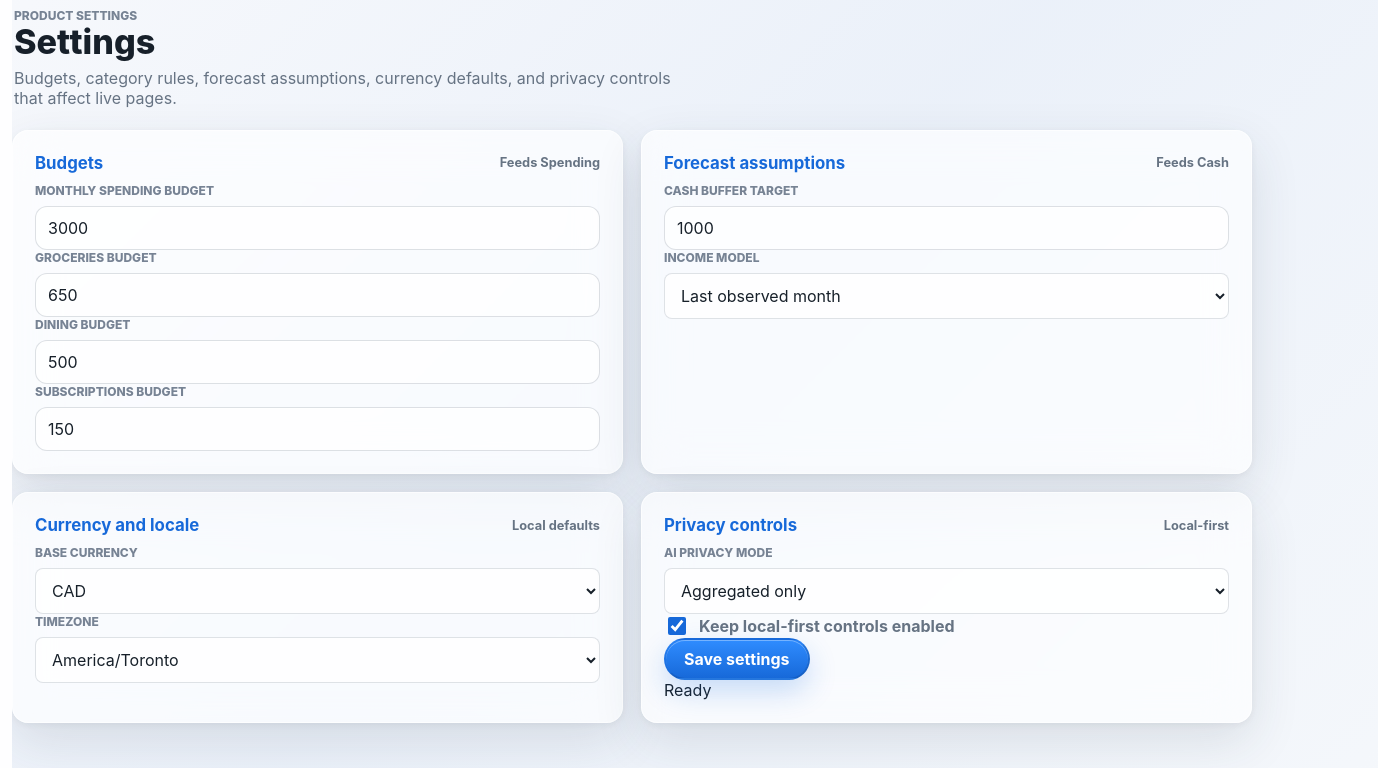
it: SettingsView › updates budget, category, forecast, and privacy settings through the live settings contract
The width and height of the screenshot is (1378, 768).
Check: the heading "Settings" is shown, box [14, 21, 155, 62]
Replace the text in the number field labelled "Monthly spending budget" with "3500". click: (318,228)
box: [35, 206, 600, 250]
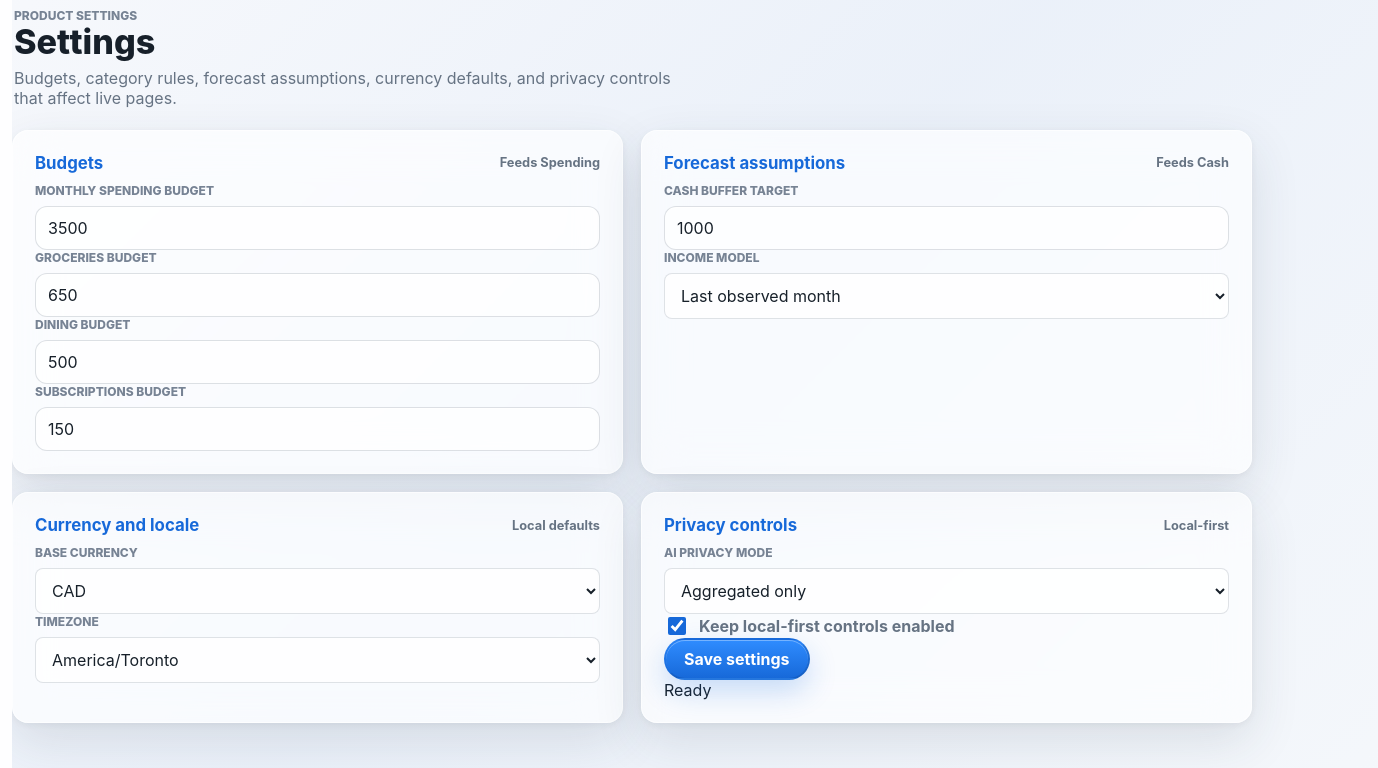
Replace the text in the number field labelled "Groceries budget" with "700". click: (318,295)
box: [35, 273, 600, 317]
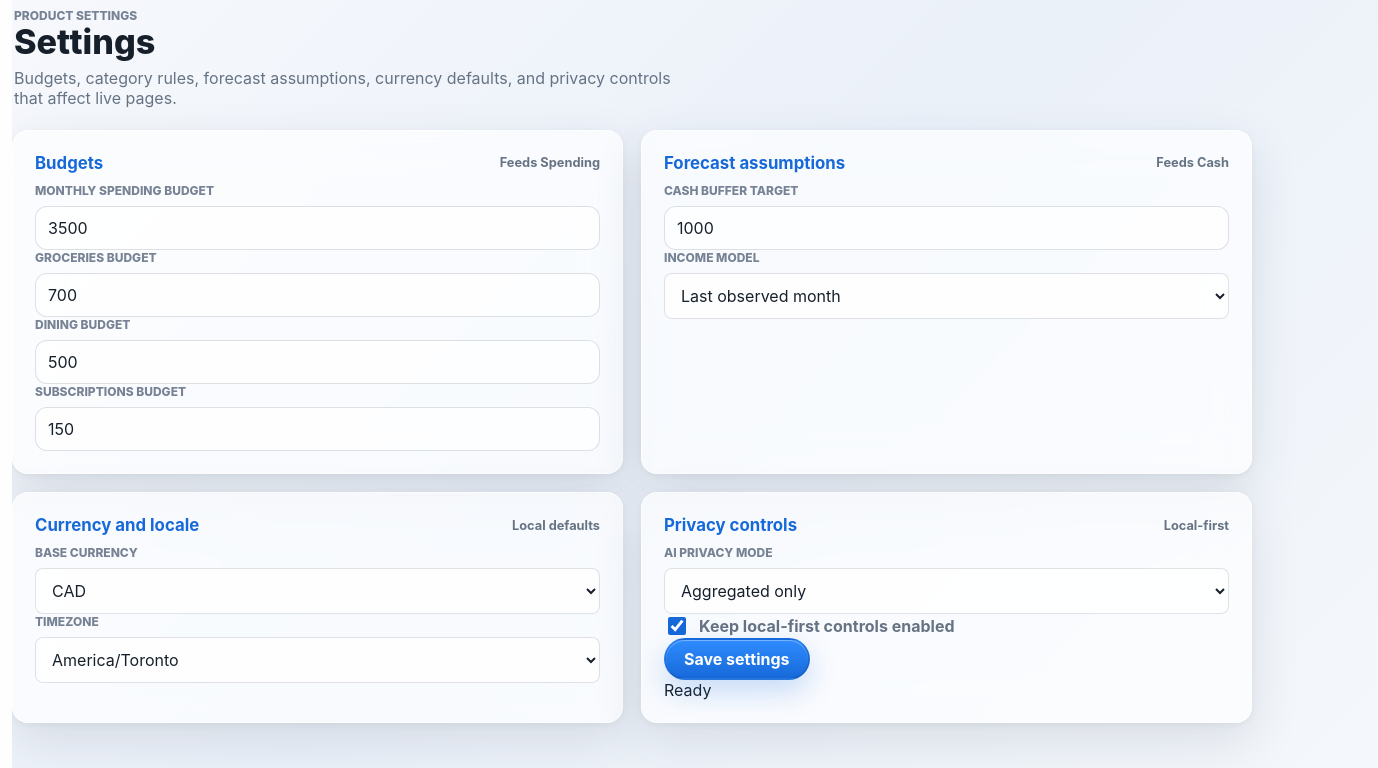
Replace the text in the number field labelled "Cash buffer target" with "1500". click: (946,228)
box: [664, 206, 1229, 250]
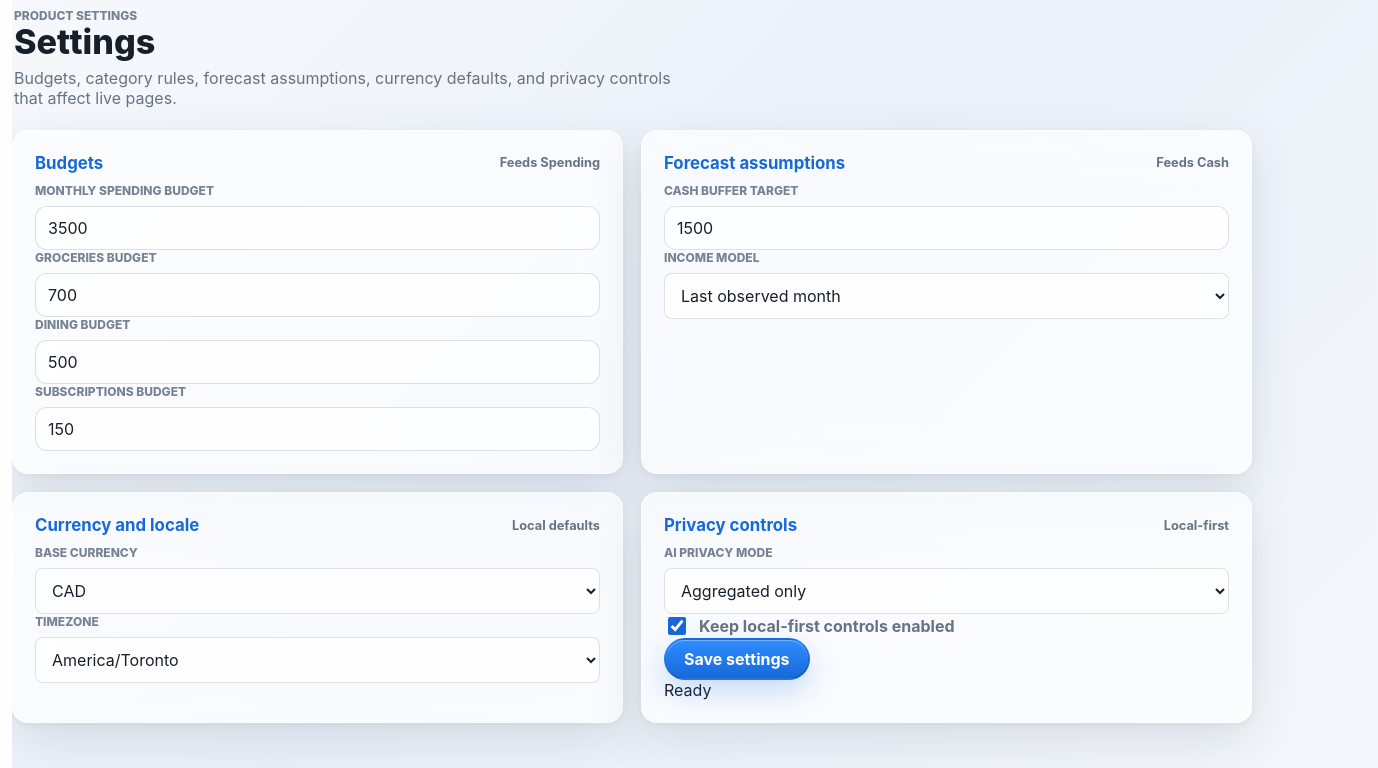
Select "Off" in the dropdown labelled "AI privacy mode". click: (946,591)
box: [664, 568, 1229, 614]
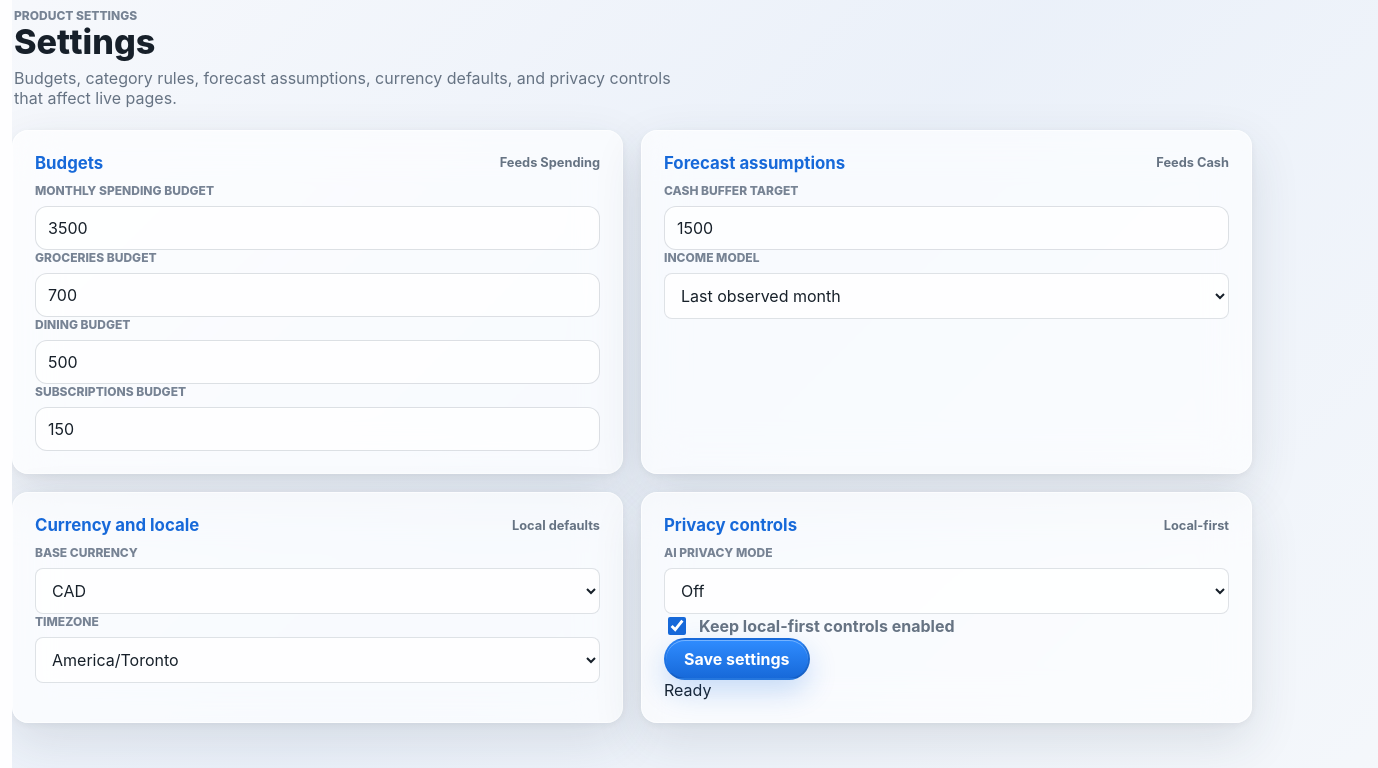
Click the checkbox labelled "local-first controls". click: (677,626)
box: [668, 617, 686, 635]
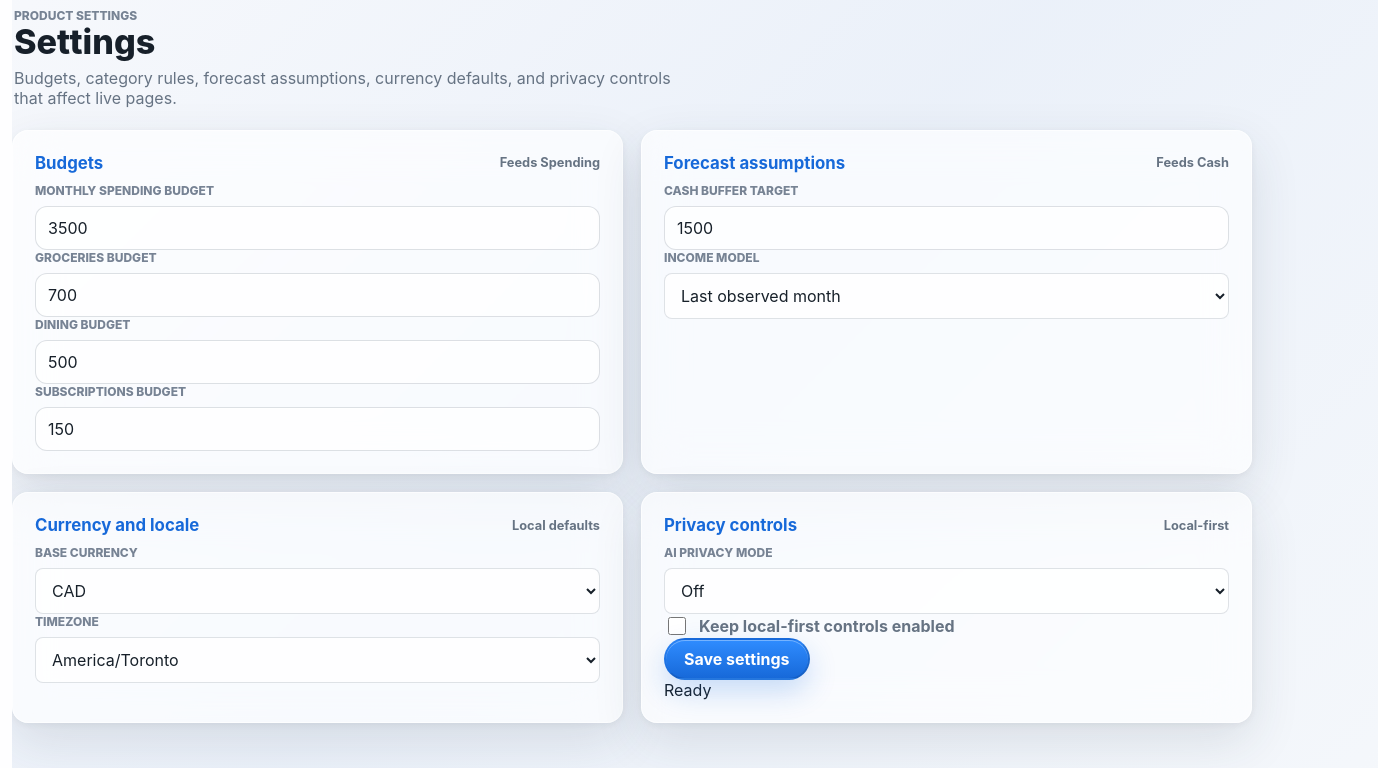
Click the button "Save settings". click: (737,659)
box: [664, 638, 810, 680]
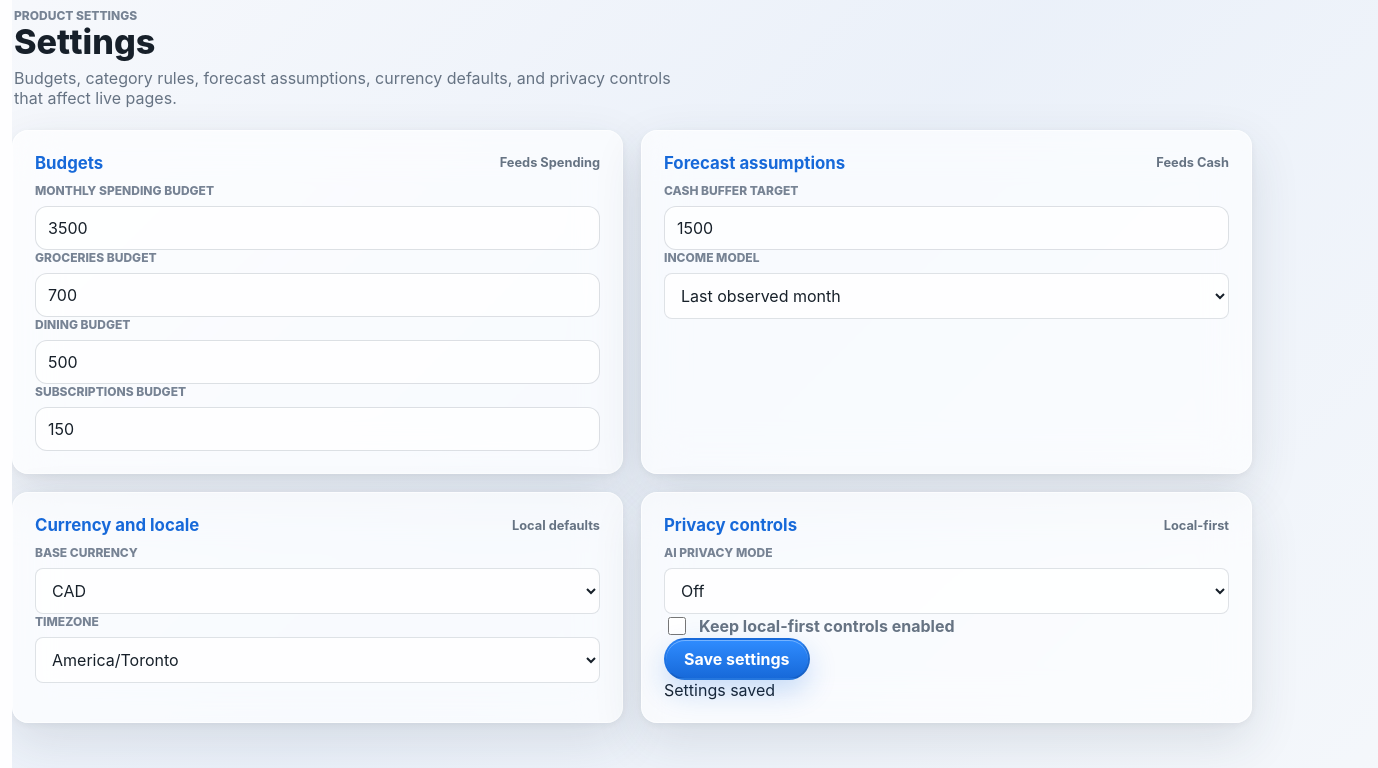
Check: the text "Settings saved" is shown, box [664, 680, 775, 700]
